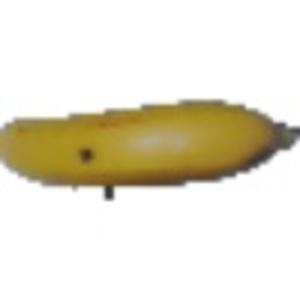banana: (2, 92, 299, 186)
